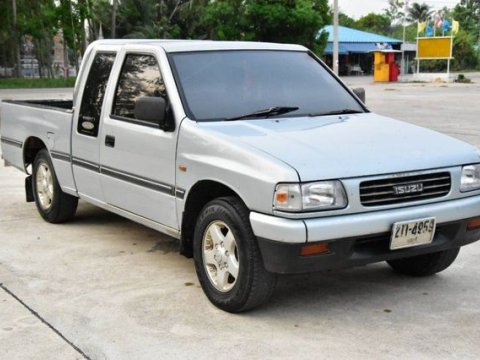pickup: (2, 34, 480, 313)
